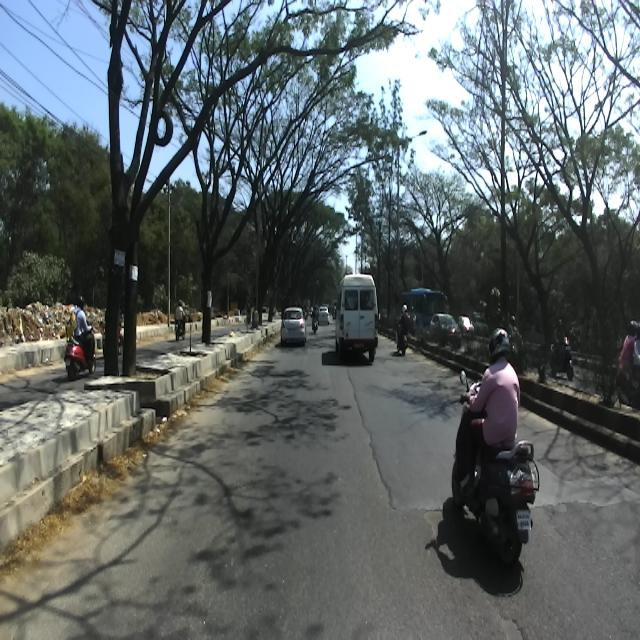motorcycle ahead at: (450, 438, 544, 575)
